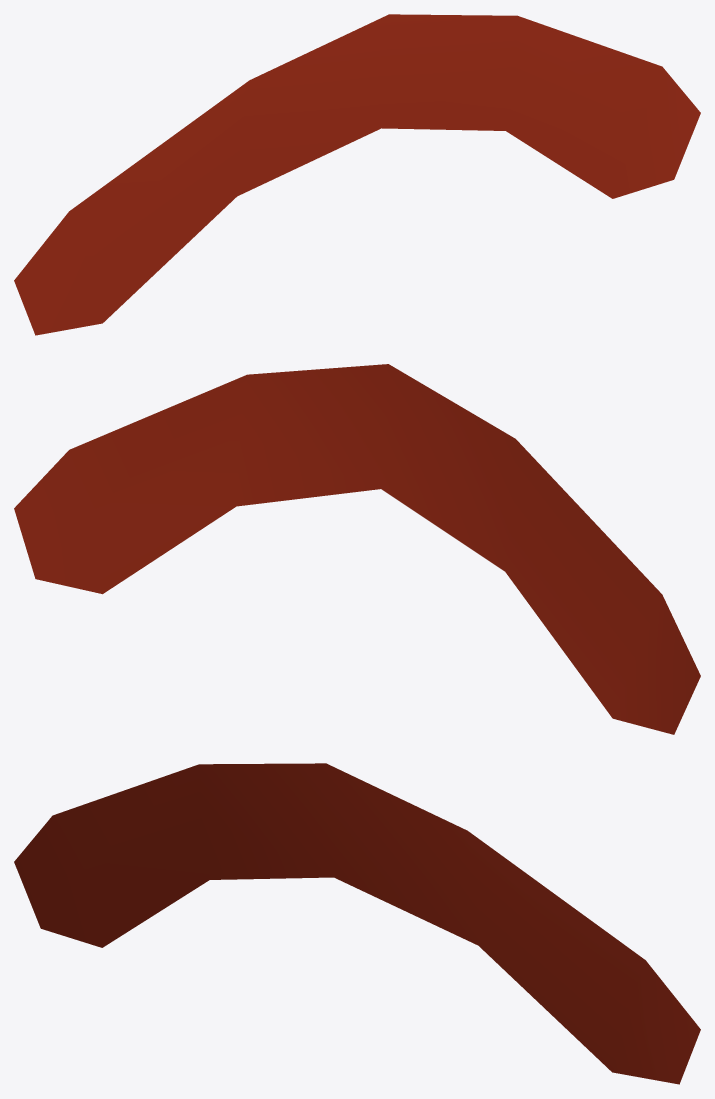
Rendered from Mouth_Red_4.fbx.
3 views of the same model, one above another, from view 1: azimuth 30°, elevation 25°; view 2: azimuth 150°, elevation 25°; view 3: azimuth 330°, elevation 25° (orthographic).
Parts seen in each view (by area): view 1: Mouth_Red_4; view 2: Mouth_Red_4; view 3: Mouth_Red_4.
Boxes of the visible parts, x1=… form: Mouth_Red_4: x1=14, y1=14, x2=700, y2=335; Mouth_Red_4: x1=14, y1=364, x2=700, y2=734; Mouth_Red_4: x1=14, y1=763, x2=700, y2=1084.
Size of the model in its own units: 6.25 by 2.35 by 0.5357.
